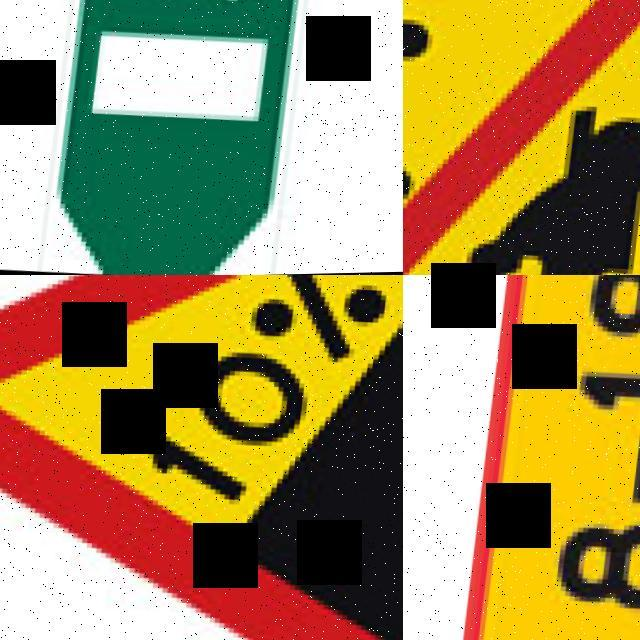129: (36, 0, 356, 275)
181: (438, 275, 640, 640)
No entry for motor vehicles: (403, 0, 640, 275)
Steep downhill: (0, 275, 403, 640)
